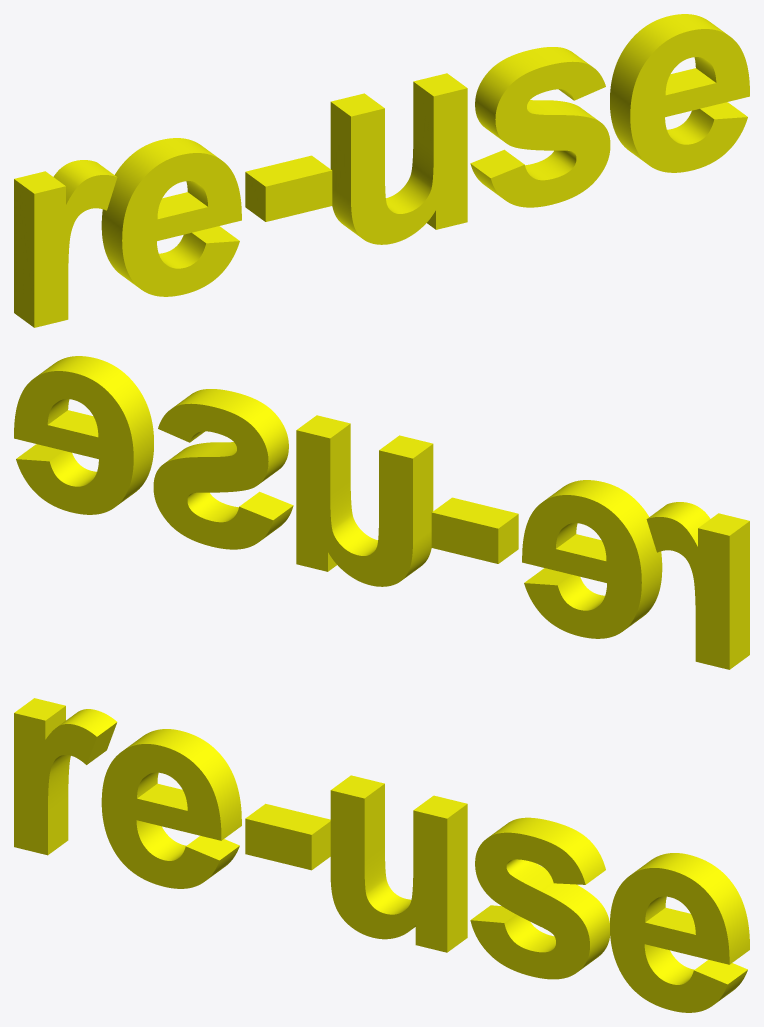
The model's file is REUSE.fbx.
The picture shows the model from 3 angles, top to bottom: view 1: azimuth 30°, elevation 25°; view 2: azimuth 150°, elevation 25°; view 3: azimuth 330°, elevation 25°; orthographic projection.
Visible parts, largest first — view 1: AR WORDS; view 2: AR WORDS; view 3: AR WORDS.
Part boxes in pixels (x1,y1,x2,y2): AR WORDS: (14, 14, 749, 327); AR WORDS: (14, 356, 749, 669); AR WORDS: (14, 698, 749, 1012).
Bounding box in the file's own units: 2.17 × 0.1075 × 0.4071.
